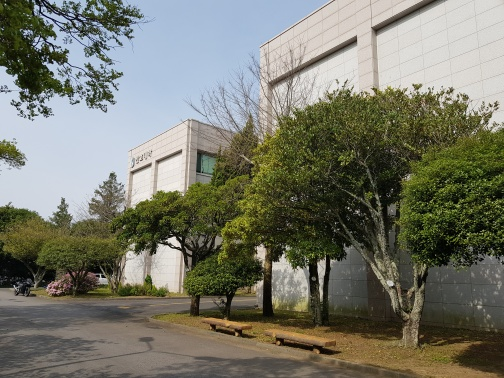College of Nursing: (247, 22, 489, 323), (112, 110, 225, 291)
